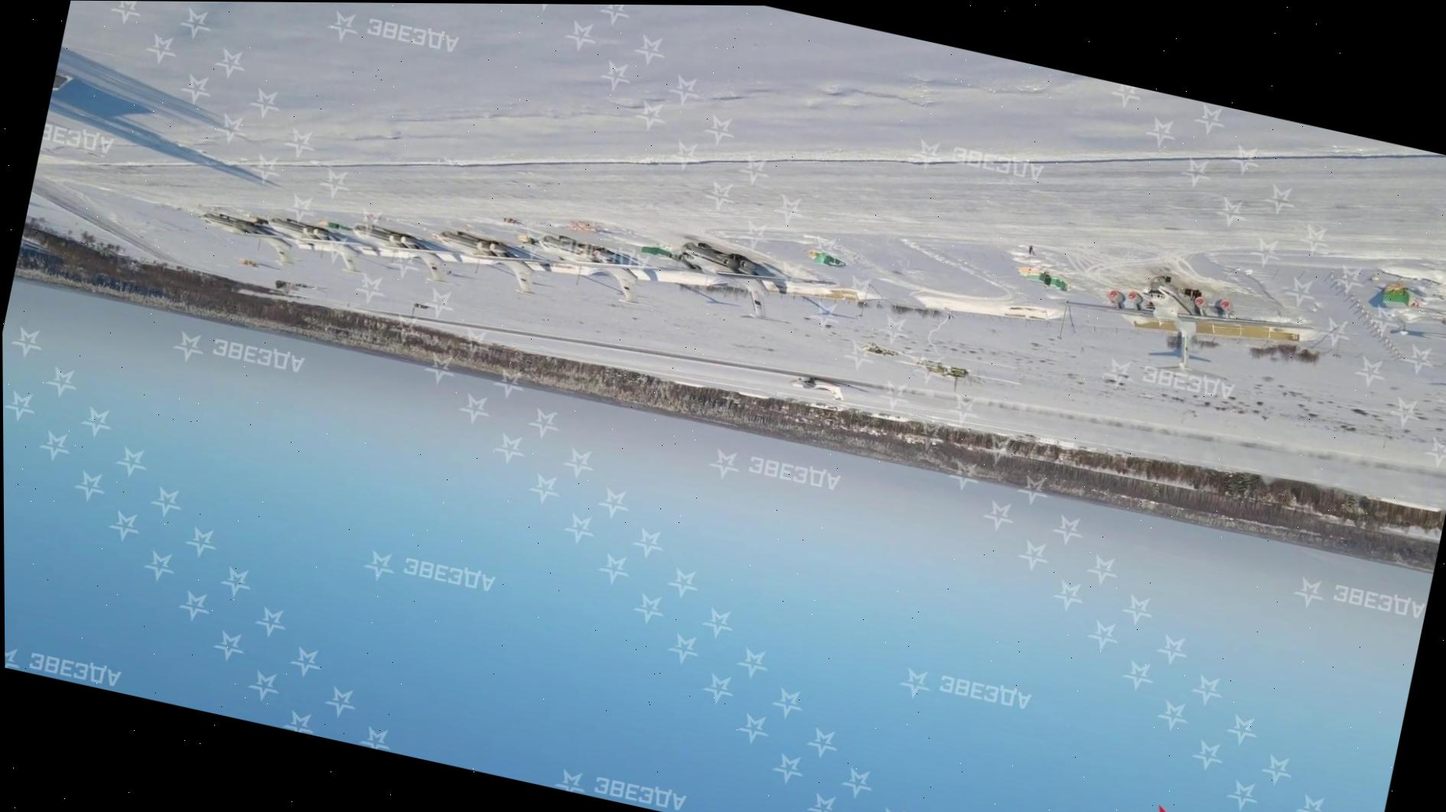plane: (1055, 254, 1320, 402), (657, 236, 822, 333), (529, 231, 669, 312), (429, 226, 561, 301), (344, 219, 469, 288), (259, 213, 373, 277), (192, 207, 304, 268), (788, 372, 849, 403)
